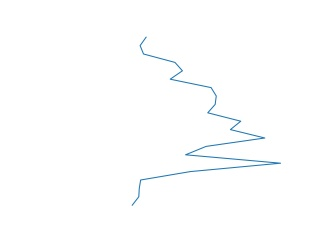floodSwamp: (126, 39, 286, 205)
